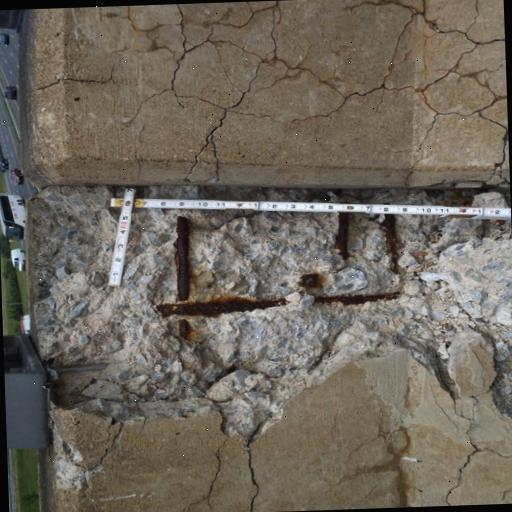spalling: (41, 185, 512, 437)
